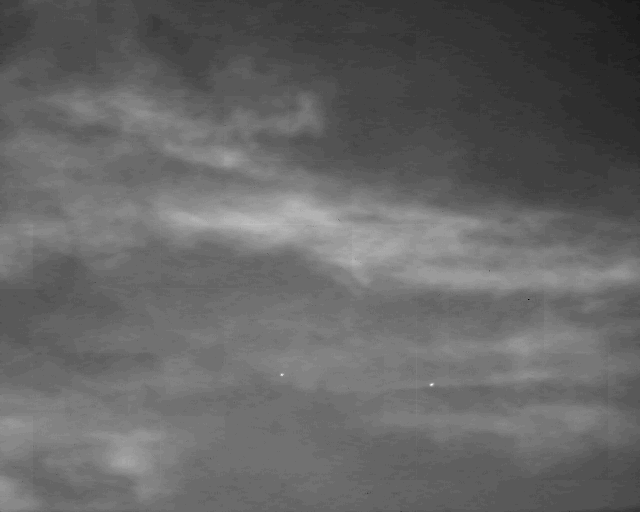Target: (430, 384, 435, 388), (281, 374, 285, 377)
